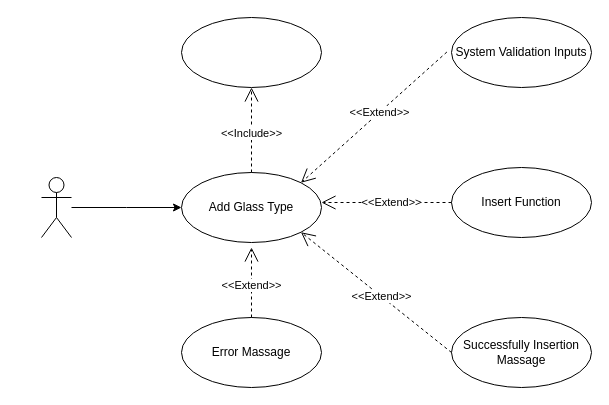
This 609x405 diagram has some shape labels left out. The shapes that lost their labels are listed below. From the top down, each one's centre as x and y in pixels, then its label:
the point at 251,52: System Checking Inputs Filling
the point at 56,207: Admin / Owner
